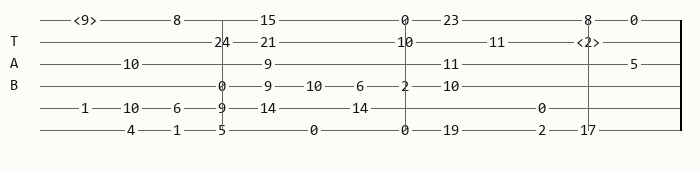0: (218, 79, 230, 93), (310, 123, 322, 137), (401, 123, 413, 137), (401, 13, 413, 27), (538, 101, 550, 115), (630, 13, 642, 27)
1: (81, 101, 93, 115), (173, 123, 185, 137)
10: (123, 57, 143, 71), (123, 101, 143, 115), (306, 79, 326, 93), (397, 35, 417, 49), (443, 79, 463, 93)
11: (443, 57, 463, 71), (489, 35, 509, 49)
14: (260, 101, 280, 115), (352, 101, 372, 115)
15: (260, 13, 280, 27)
17: (580, 123, 600, 137)
19: (443, 123, 463, 137)
2: (401, 79, 413, 93), (538, 123, 550, 137)
21: (260, 35, 280, 49)
23: (443, 13, 463, 27)
24: (214, 35, 234, 49)
4: (127, 123, 139, 137)
5: (218, 123, 230, 137), (630, 57, 642, 71)
6: (173, 101, 185, 115), (356, 79, 368, 93)
8: (173, 13, 185, 27), (584, 13, 596, 27)
9: (218, 101, 230, 115), (264, 79, 276, 93), (264, 57, 276, 71)
harmonic: (73, 13, 101, 27), (576, 35, 604, 49)
